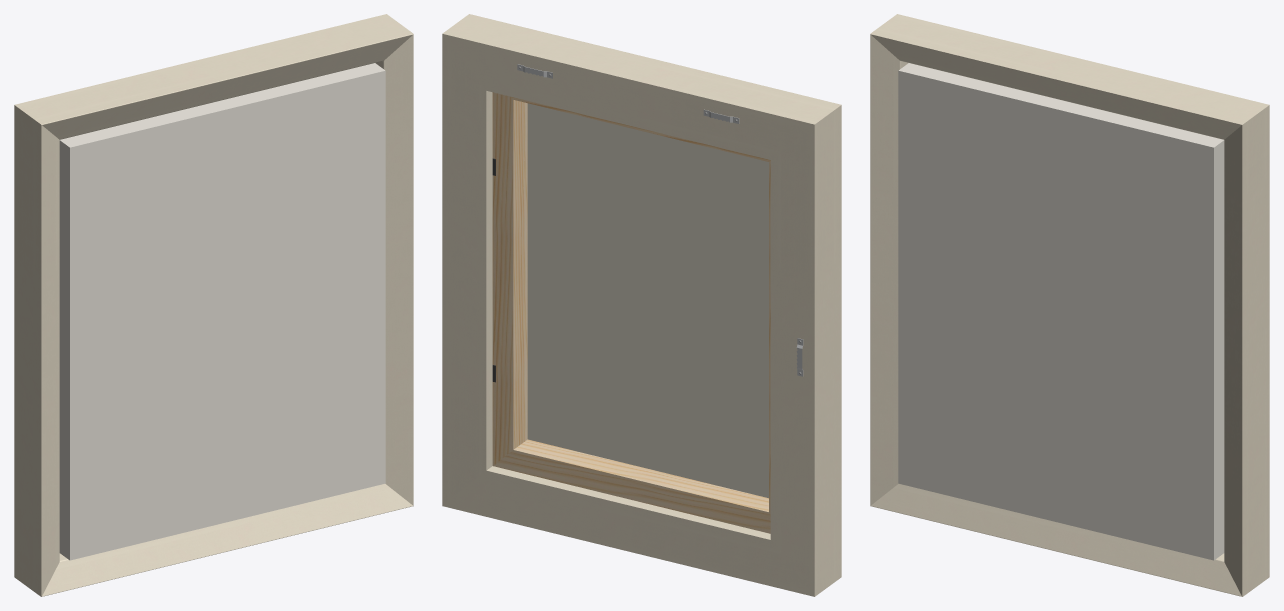
Rendered from delivery.glb.
3 renders of one model, left to right at view 1: azimuth 30°, elevation 25°; view 2: azimuth 150°, elevation 25°; view 3: azimuth 330°, elevation 25°, orthographic.
Visible parts, largest first — view 1: Canvas artwork front, Tray approved profile 0; view 2: Tray approved profile 0, Canvas linen reverse, Stretcher top, Sawtooth hanger 0; view 3: Canvas artwork front, Tray approved profile 0.
Part boxes in pixels (x1,y1,x2,y2): Canvas artwork front: [59, 63, 385, 560]; Tray approved profile 0: [14, 14, 413, 596]; Tray approved profile 0: [442, 14, 841, 596]; Canvas linen reverse: [527, 103, 768, 498]; Stretcher top: [492, 92, 770, 533]; Sawtooth hanger 0: [517, 64, 803, 376]; Canvas artwork front: [898, 63, 1224, 560]; Tray approved profile 0: [870, 14, 1269, 596].
Bounding box in the file's own units: 0.472 × 0.572 × 0.0624.
7 materials, 3 textured.
